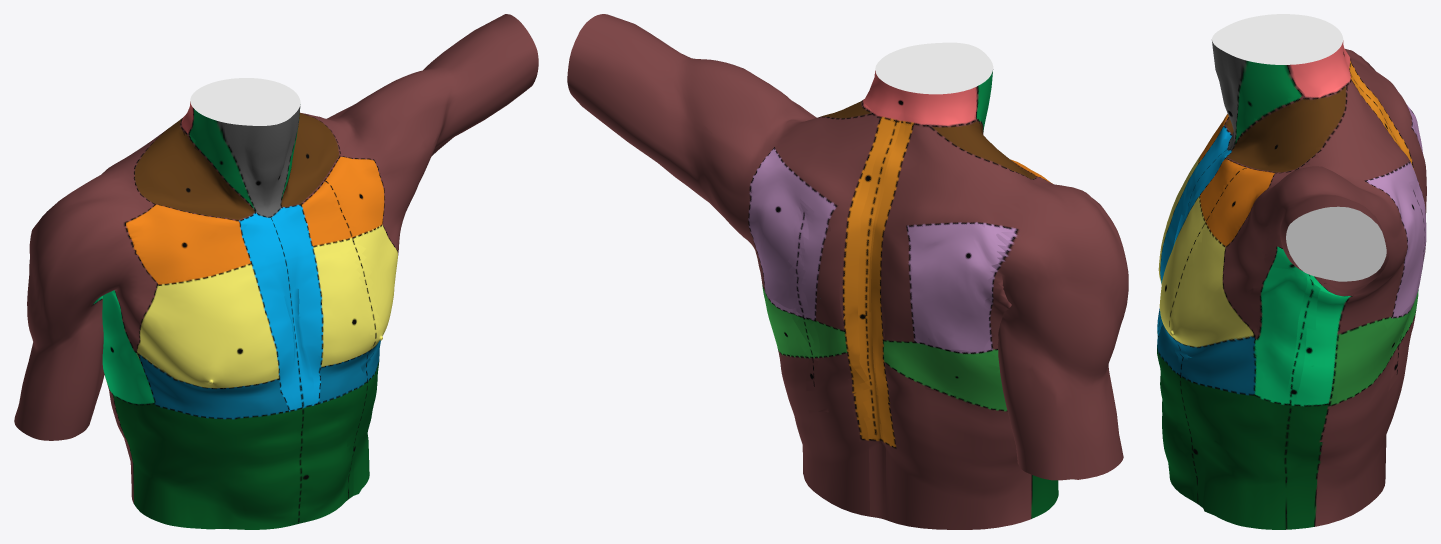
The model's file is torax.glb.
The picture shows the model from 3 angles, left to right: view 1: azimuth 30°, elevation 25°; view 2: azimuth 150°, elevation 25°; view 3: azimuth 270°, elevation 25°; orthographic projection. The views are drawn at different scales.
Visible parts, largest first — view 1: chest, region_mamaria, region_infraclavilcular, region_lateral_del_cuello, region_cervical_anterior, linea_media_anterior, tapas, region_axilar, linea_medioclavicular_o_mamaria, region_externocleidomastoideo; view 2: chest, region_escapular, region_vertebral, regioninfraescapular, tapas, linea_media_posterior, region_cervical_posterior, region_lateral_del_cuello, linea_escapular; view 3: chest, tapas, region_axilar, region_mamaria, region_lateral_del_cuello, regioninfraescapular, region_escapular, linea_medioclavicular_o_mamaria, region_infraclavilcular, region_externocleidomastoideo, region_cervical_posterior, linea_axilar (+5 smaller).
Boxes of the visible parts, <box> form: chest: <box>14,14,538,529</box>; region_mamaria: <box>132,223,397,389</box>; region_infraclavilcular: <box>125,154,384,283</box>; region_lateral_del_cuello: <box>131,113,338,218</box>; region_cervical_anterior: <box>224,106,300,217</box>; linea_media_anterior: <box>266,215,313,525</box>; tapas: <box>190,78,349,529</box>; region_axilar: <box>91,290,154,409</box>; linea_medioclavicular_o_mamaria: <box>323,176,380,500</box>; region_externocleidomastoideo: <box>187,104,300,197</box>; chest: <box>567,14,1128,529</box>; region_escapular: <box>748,155,1013,353</box>; region_vertebral: <box>839,117,910,450</box>; regioninfraescapular: <box>765,297,1007,412</box>; tapas: <box>875,42,1076,520</box>; linea_media_posterior: <box>858,122,900,440</box>; region_cervical_posterior: <box>861,70,980,127</box>; region_lateral_del_cuello: <box>822,101,1035,180</box>; linea_escapular: <box>792,203,819,381</box>; chest: <box>1157,49,1426,529</box>; tapas: <box>1198,14,1386,505</box>; region_axilar: <box>1251,267,1349,407</box>; region_mamaria: <box>1158,153,1263,347</box>; region_lateral_del_cuello: <box>1225,88,1347,172</box>; regioninfraescapular: <box>1335,289,1418,405</box>; region_escapular: <box>1374,89,1426,319</box>; linea_medioclavicular_o_mamaria: <box>1167,167,1255,507</box>; region_infraclavilcular: <box>1199,114,1279,246</box>; region_externocleidomastoideo: <box>1235,60,1303,135</box>; region_cervical_posterior: <box>1288,40,1351,101</box>; linea_axilar: <box>1285,274,1320,406</box>.
Size of the model in its own units: 0.7033 by 0.5291 by 0.3013.
Materials: 2 (2 with a texture image).
